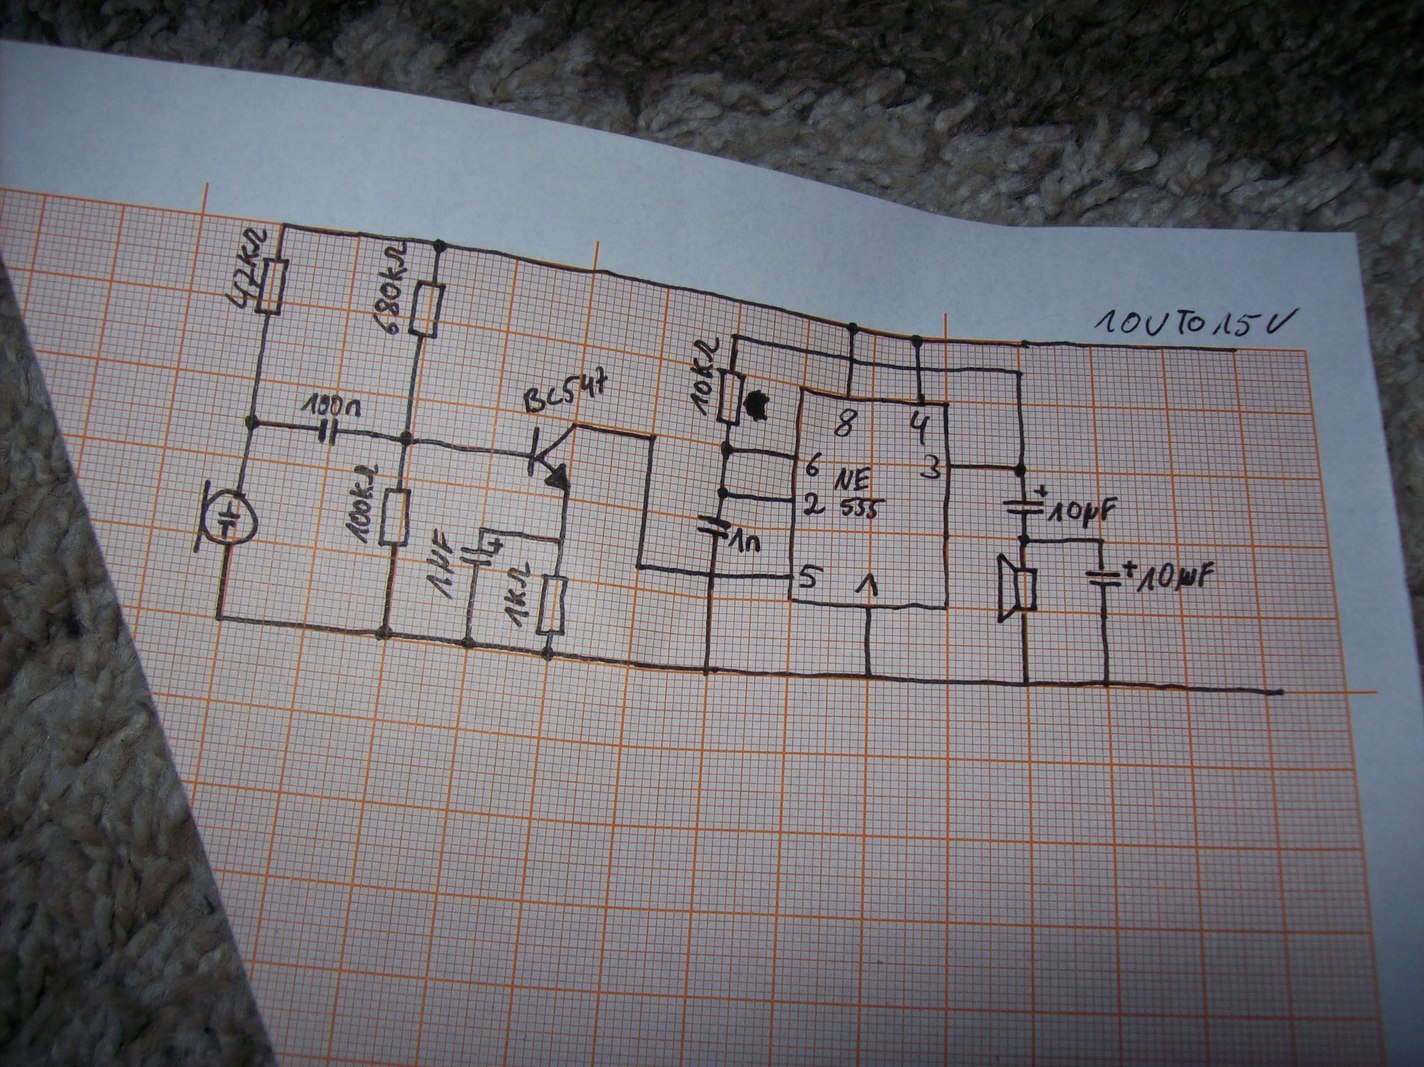capacitor.polarized: (1085, 559, 1139, 588), (1002, 483, 1049, 516), (459, 537, 504, 568)
capacitor.unpolarized: (694, 512, 732, 540), (316, 416, 341, 448)
crossover: (844, 352, 859, 367), (705, 567, 719, 582), (911, 362, 927, 374)
integrated_cricuit.ne555: (785, 386, 955, 614)
junction: (374, 623, 395, 643), (243, 412, 262, 433), (431, 236, 449, 256), (398, 429, 415, 448), (1011, 462, 1029, 479), (460, 634, 477, 652), (540, 644, 556, 664), (719, 439, 735, 458), (552, 532, 571, 548), (909, 332, 925, 347), (699, 664, 717, 678), (846, 319, 860, 336), (716, 484, 730, 501), (1016, 532, 1032, 547), (860, 669, 876, 684), (727, 330, 742, 343), (645, 432, 660, 445), (1100, 676, 1113, 690), (1020, 678, 1034, 690), (212, 612, 225, 624), (632, 560, 645, 573), (476, 523, 490, 536), (1013, 367, 1026, 378), (1093, 535, 1106, 546), (279, 219, 290, 231)
microphone: (190, 479, 260, 554)
resistor: (406, 278, 448, 342), (252, 256, 291, 318), (534, 572, 570, 638), (376, 486, 413, 549), (715, 365, 746, 429)
speaker: (996, 553, 1040, 627)
terminal: (1272, 684, 1291, 704), (1225, 342, 1244, 358)
text: (1091, 305, 1303, 337), (522, 364, 609, 415), (223, 226, 269, 310), (372, 242, 408, 335), (834, 466, 887, 521), (344, 462, 379, 546), (1136, 560, 1216, 593), (689, 335, 720, 416), (1048, 495, 1118, 531), (424, 527, 456, 602), (503, 559, 533, 630), (300, 391, 364, 418), (728, 525, 764, 556), (832, 408, 859, 439), (909, 409, 931, 446), (797, 562, 825, 591), (853, 572, 879, 599), (916, 453, 943, 480), (801, 491, 827, 517), (804, 451, 823, 477)
transistor: (525, 423, 577, 493)
